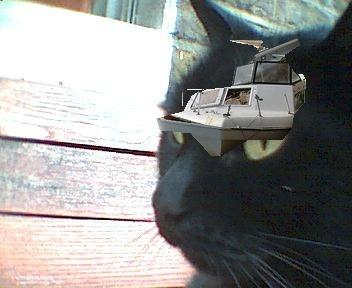tampered: (157, 39, 306, 156)
